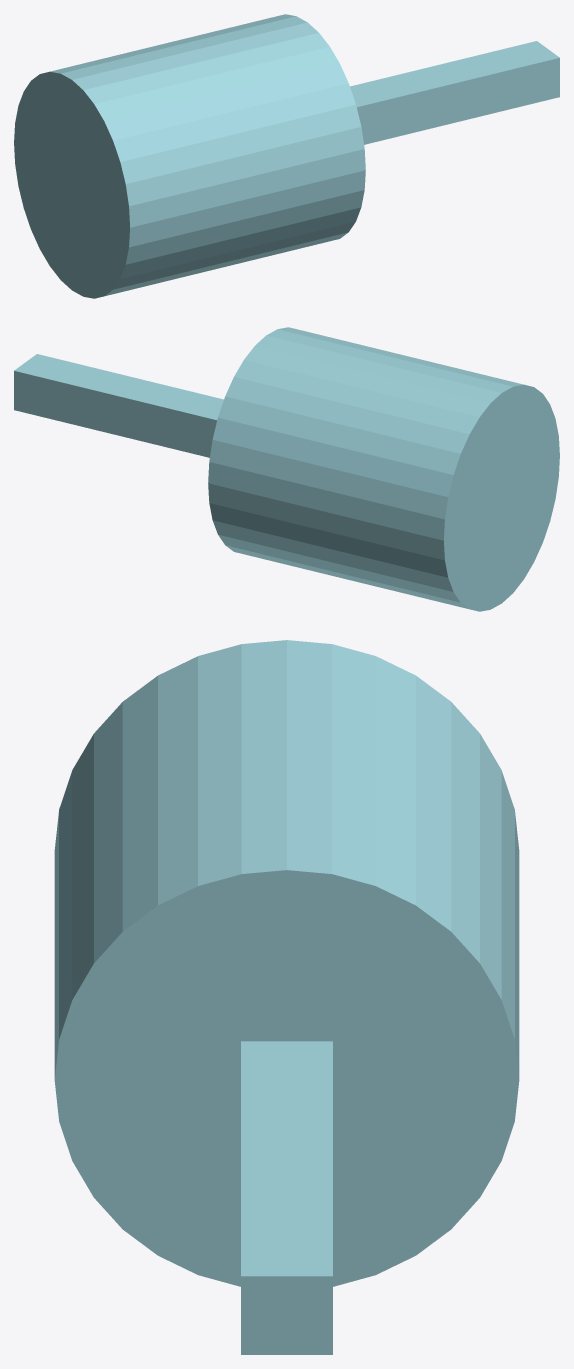
Rendered from cylinder_screwdriver_v3008.obj.
The picture shows the model from 3 angles, top to bottom: view 1: azimuth 30°, elevation 25°; view 2: azimuth 150°, elevation 25°; view 3: azimuth 270°, elevation 25°; orthographic projection. The views are drawn at different scales.
Size of the model in its own units: 0.1706 by 0.072 by 0.072.
1 material, 1 textured.
